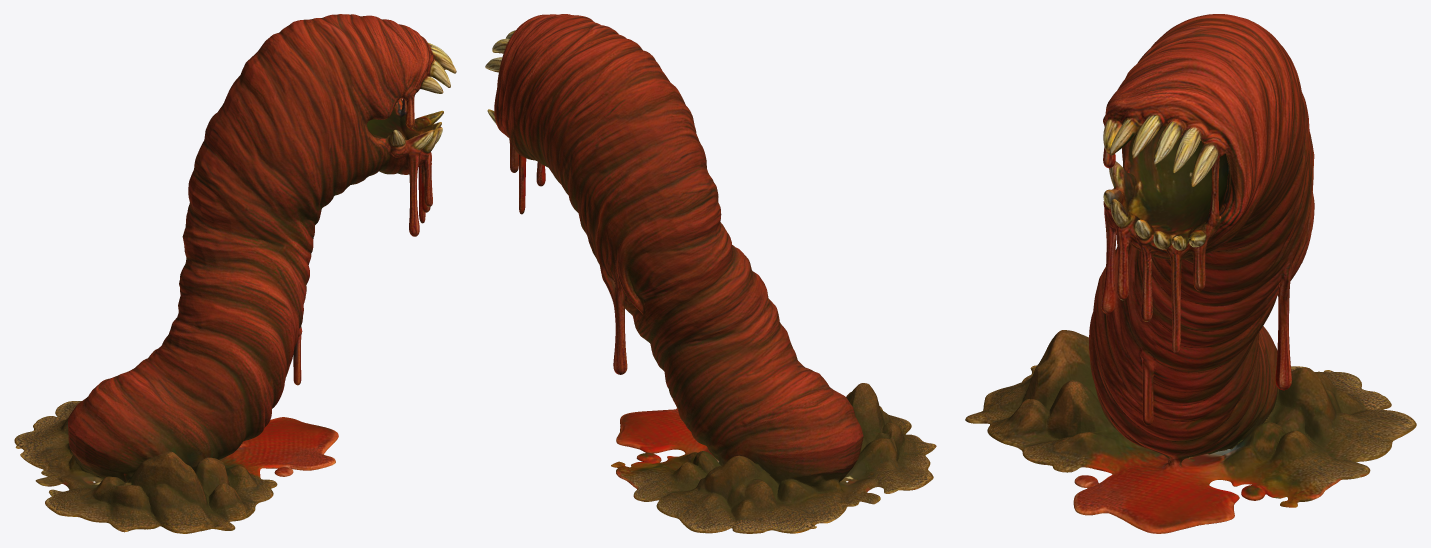
The model's file is Crimson Plague Worm.glb.
3 renders of one model, left to right at view 1: azimuth 30°, elevation 25°; view 2: azimuth 150°, elevation 25°; view 3: azimuth 270°, elevation 25°, orthographic. The views are drawn at different scales.
Parts seen in each view (by area): view 1: tripo_node_5fb32e9c-0fc2-41de-b4f4-1128ac6b9416; view 2: tripo_node_5fb32e9c-0fc2-41de-b4f4-1128ac6b9416; view 3: tripo_node_5fb32e9c-0fc2-41de-b4f4-1128ac6b9416.
Boxes of the visible parts, x1,y1,x2,y2 form: tripo_node_5fb32e9c-0fc2-41de-b4f4-1128ac6b9416: (14, 14, 456, 533); tripo_node_5fb32e9c-0fc2-41de-b4f4-1128ac6b9416: (485, 14, 936, 533); tripo_node_5fb32e9c-0fc2-41de-b4f4-1128ac6b9416: (965, 14, 1416, 533).
Bounding box in the file's own units: 1 × 0.9033 × 0.7188.
Materials: 1 (1 with a texture image).
